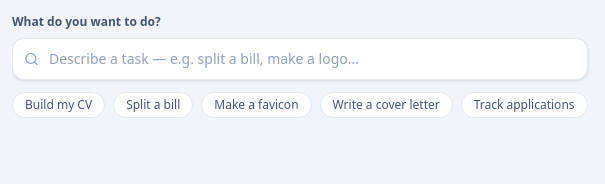
HeroPrompt › shows a friendly empty state
Type "zzzzqqq" into the search field named "What do you want to do?" at (300, 59), box [12,38,588,80]
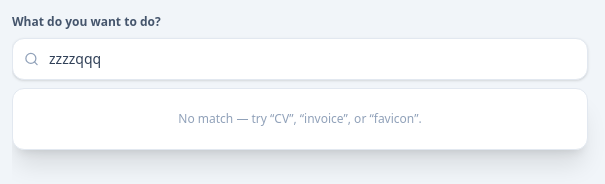
Result: the text "No match — try “CV”, “invoice”, or “favicon”." is shown at [178,110,422,127]
